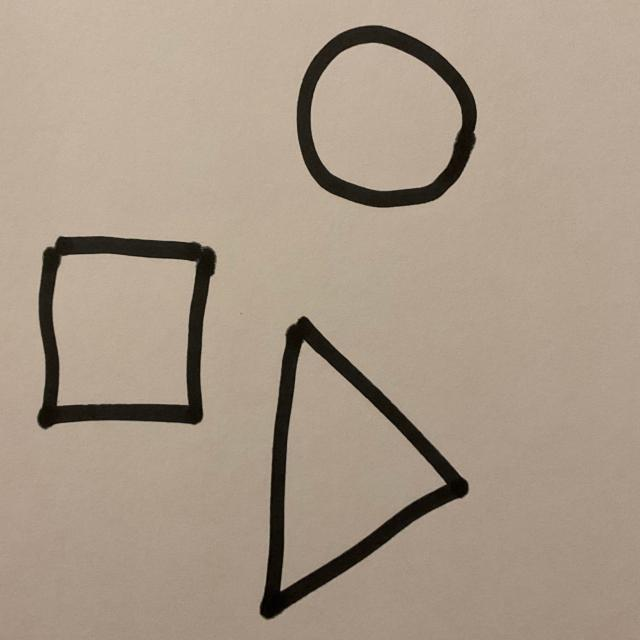Dreieck: (259, 318, 470, 621)
Kreis: (295, 26, 479, 212)
Quadrat: (35, 236, 218, 431)
